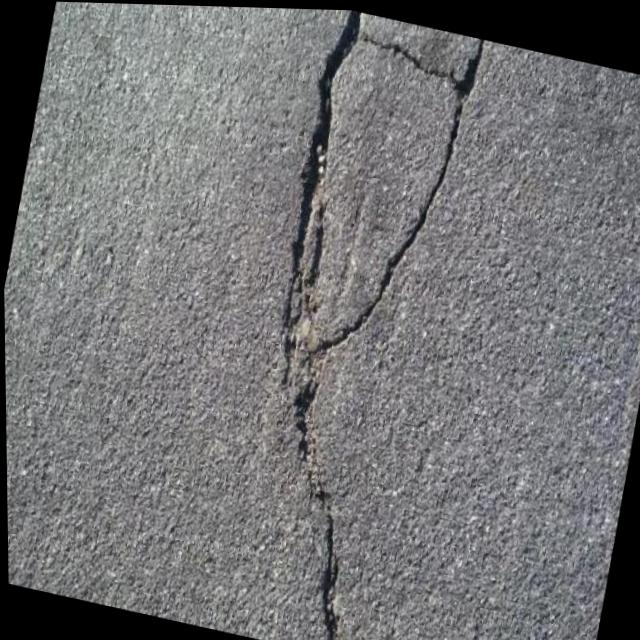Crack: (202, 5, 496, 640)
